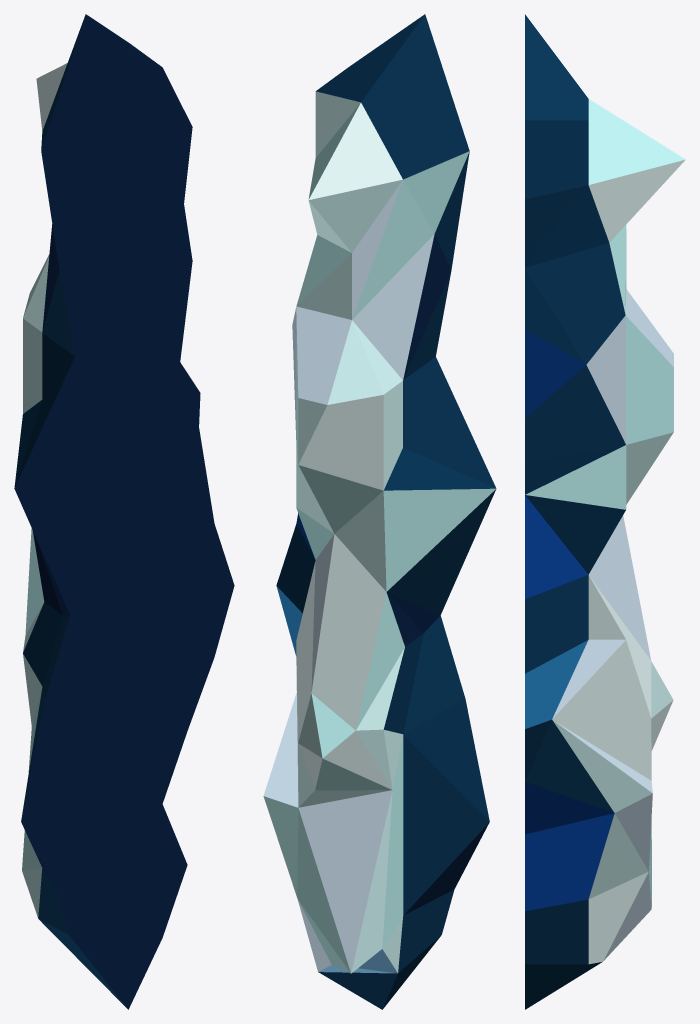
File: winter_middle_mountain_2.fbx
3 views of the same model, side by side, from view 1: azimuth 30°, elevation 25°; view 2: azimuth 150°, elevation 25°; view 3: azimuth 270°, elevation 25° (orthographic). The views are drawn at different scales.
Parts seen in each view (by area): view 1: winter_middle_mountain_2; view 2: winter_middle_mountain_2; view 3: winter_middle_mountain_2.
Part boxes in pixels (<box>): winter_middle_mountain_2: <box>14,14,234,1009</box>; winter_middle_mountain_2: <box>263,14,496,1009</box>; winter_middle_mountain_2: <box>525,14,685,1009</box>.
Bounding box in the file's own units: 236 × 1032 × 154.
